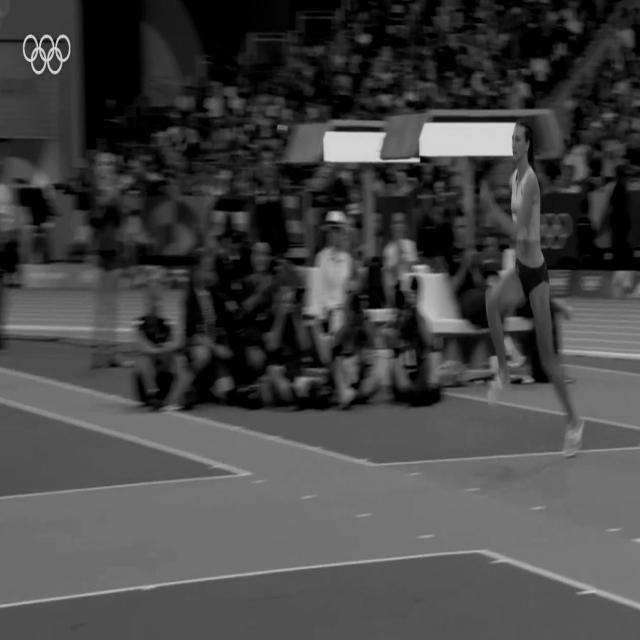run: (483, 123, 580, 456)
